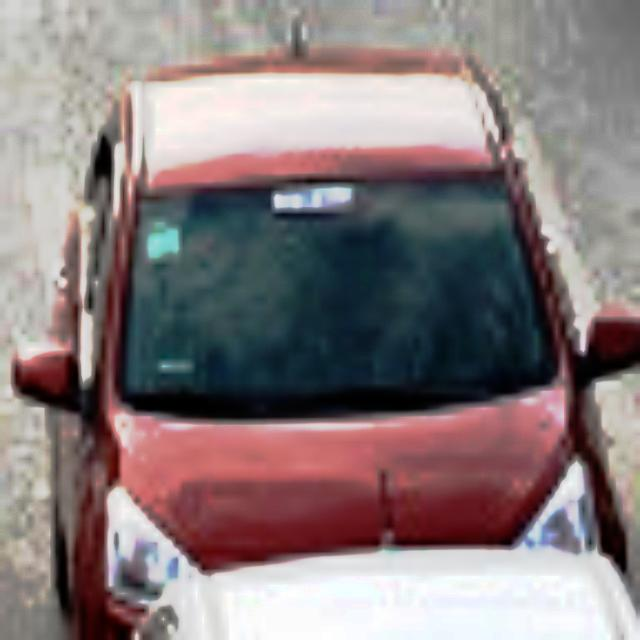Car: (12, 22, 639, 639)
